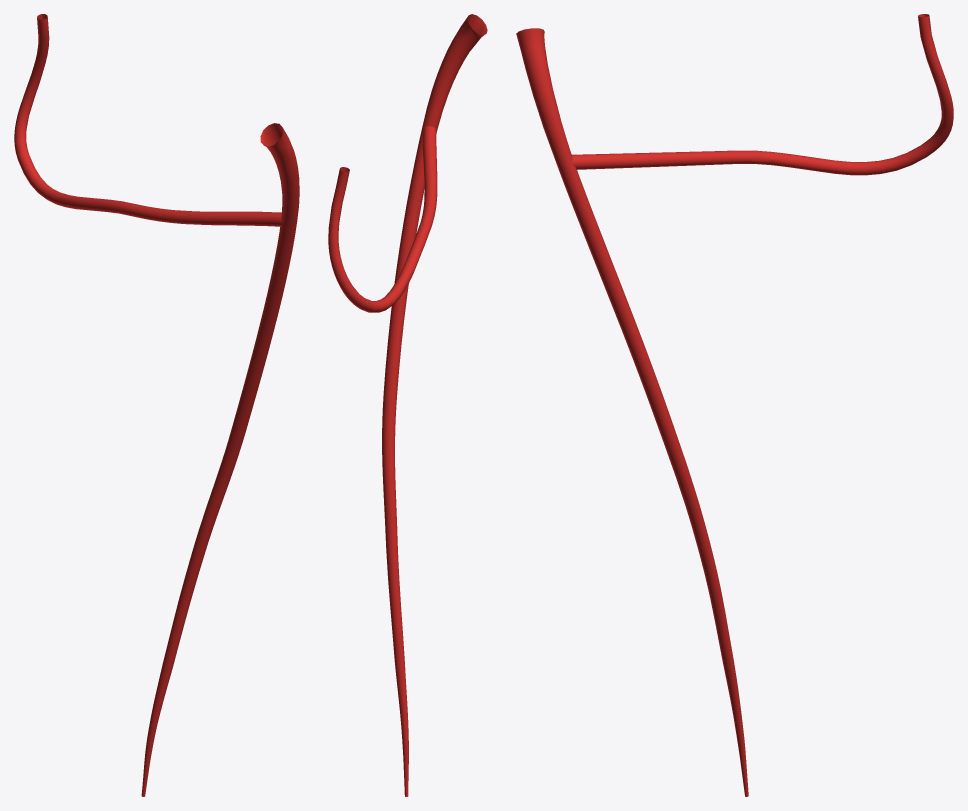
Rendered from circulatorio-subscapular-artery-r.glb.
3 views of the same model, side by side, from view 1: azimuth 30°, elevation 25°; view 2: azimuth 150°, elevation 25°; view 3: azimuth 270°, elevation 25° (orthographic). The views are drawn at different scales.
Parts seen in each view (by area): view 1: Thoracodorsal artery.r, Circumflex scapular artery.r, Subscapular artery.r; view 2: Thoracodorsal artery.r, Circumflex scapular artery.r, Subscapular artery.r; view 3: Thoracodorsal artery.r, Circumflex scapular artery.r, Subscapular artery.r.
Boxes of the visible parts, bbox=[...] form: Thoracodorsal artery.r: bbox=[141, 222, 296, 796]; Circumflex scapular artery.r: bbox=[14, 14, 282, 226]; Subscapular artery.r: bbox=[260, 123, 299, 225]; Thoracodorsal artery.r: bbox=[382, 127, 436, 796]; Circumflex scapular artery.r: bbox=[328, 126, 437, 312]; Subscapular artery.r: bbox=[422, 14, 487, 130]; Thoracodorsal artery.r: bbox=[557, 162, 748, 796]; Circumflex scapular artery.r: bbox=[572, 14, 953, 175]; Subscapular artery.r: bbox=[516, 28, 572, 166].
Size of the model in its own units: 0.0145 by 0.0899 by 0.0453.
